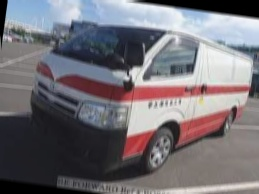van: (21, 8, 257, 184)
